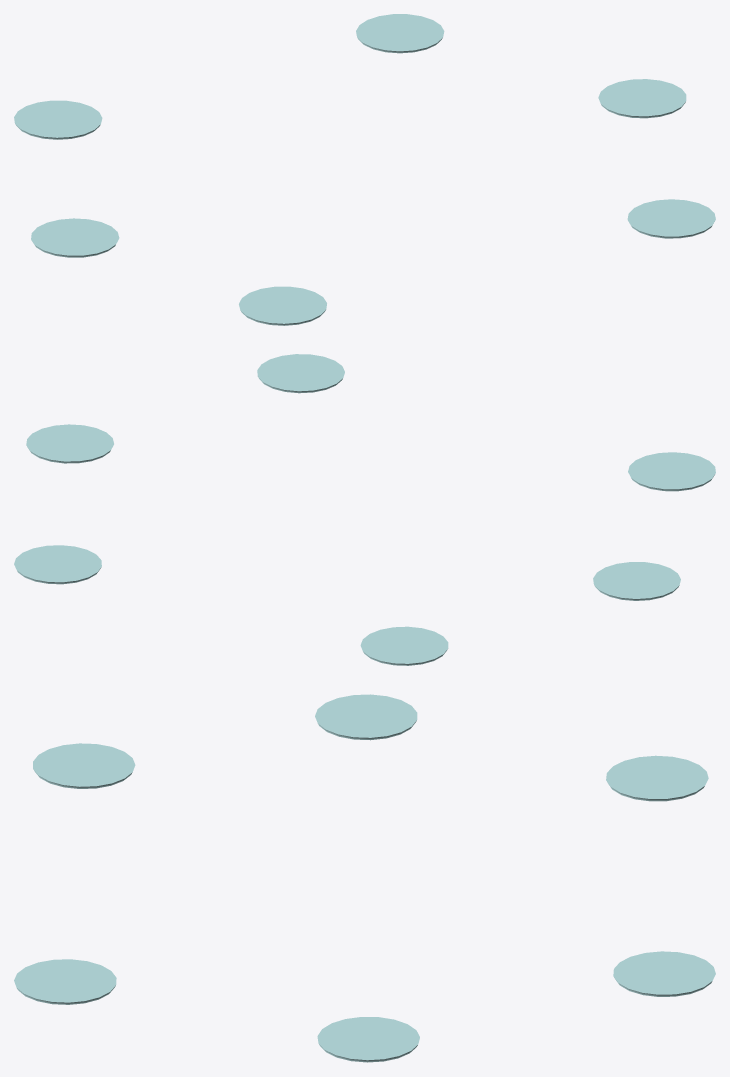
The model's file is lobbylights.fbx.
The picture shows the model from 3 angles, top to bottom: view 1: azimuth 30°, elevation 25°; view 2: azimuth 150°, elevation 25°; view 3: azimuth 270°, elevation 25°; orthographic projection. The views are drawn at different scales.
Parts seen in each view (by area): view 1: Dome_ArchLight.003; view 2: Dome_ArchLight.003; view 3: Dome_ArchLight.003.
Boxes of the visible parts, box(x1,y1,x2,y2) form: Dome_ArchLight.003: box(14, 14, 715, 325); Dome_ArchLight.003: box(14, 354, 715, 665); Dome_ArchLight.003: box(14, 694, 715, 1062).
Bounding box in the file's own units: 16.78 × 0.0632 × 13.61.
